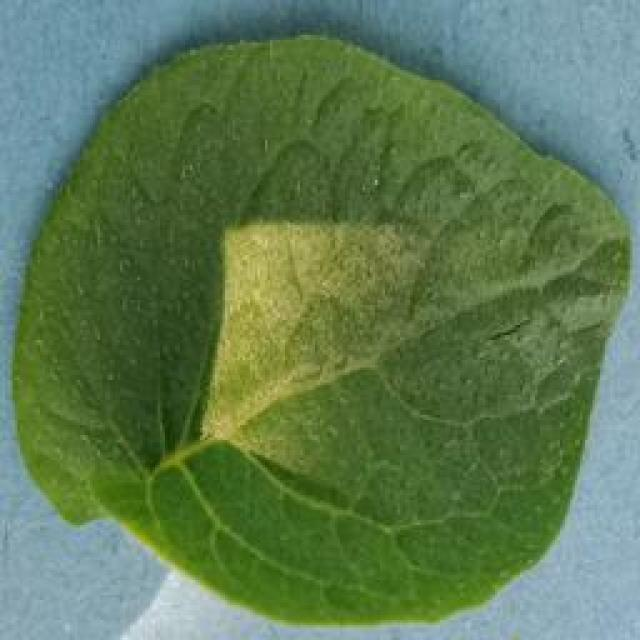Potato_Healthy: (16, 33, 621, 628)
